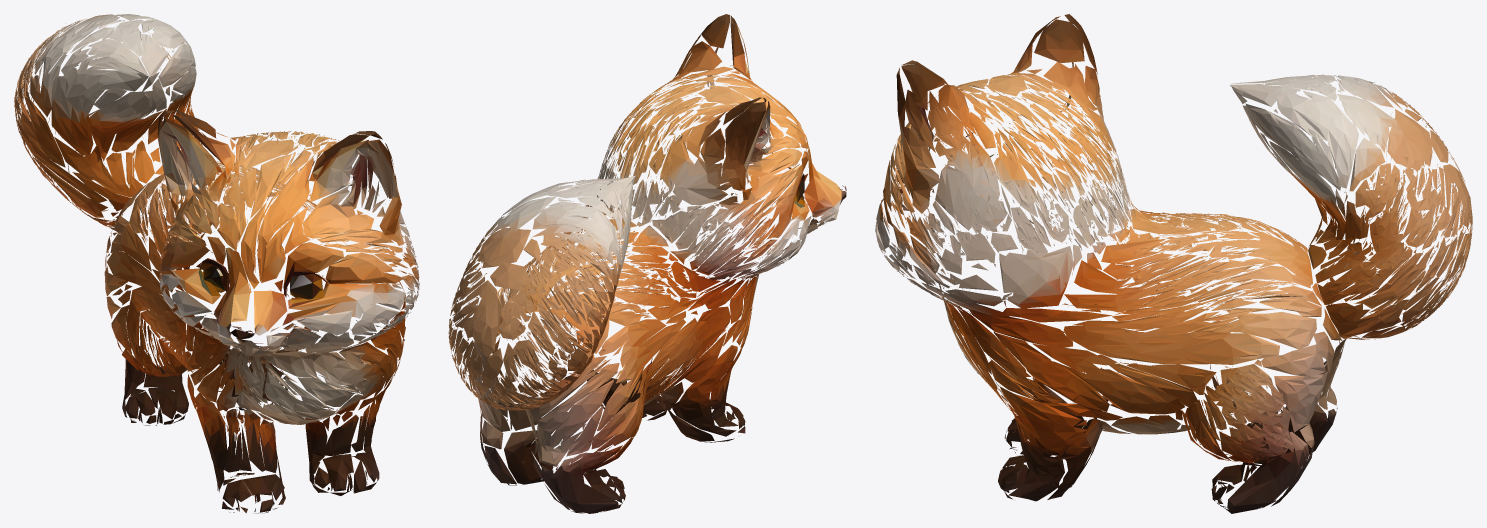
Rendered from pet_fox.glb.
3 renders of one model, left to right at view 1: azimuth 30°, elevation 25°; view 2: azimuth 150°, elevation 25°; view 3: azimuth 270°, elevation 25°, orthographic. The views are drawn at different scales.
Visible parts, largest first — view 1: fox; view 2: fox; view 3: fox.
Boxes of the visible parts, x1=… form: fox: x1=14, y1=14, x2=419, y2=513; fox: x1=448, y1=14, x2=846, y2=513; fox: x1=875, y1=14, x2=1472, y2=513.
Bounding box in the file's own units: 0.6249 × 1 × 1.32.
Materials: 1 (1 with a texture image).
